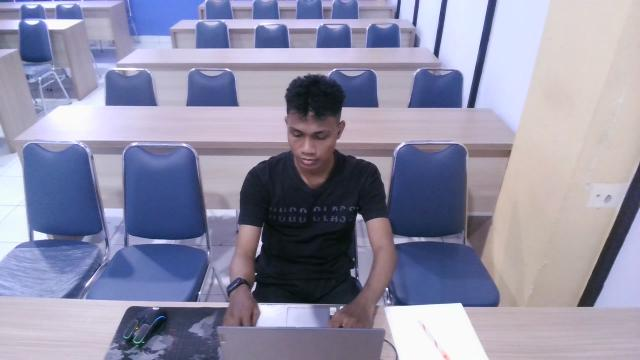Normal_Focus: (217, 67, 411, 360)
